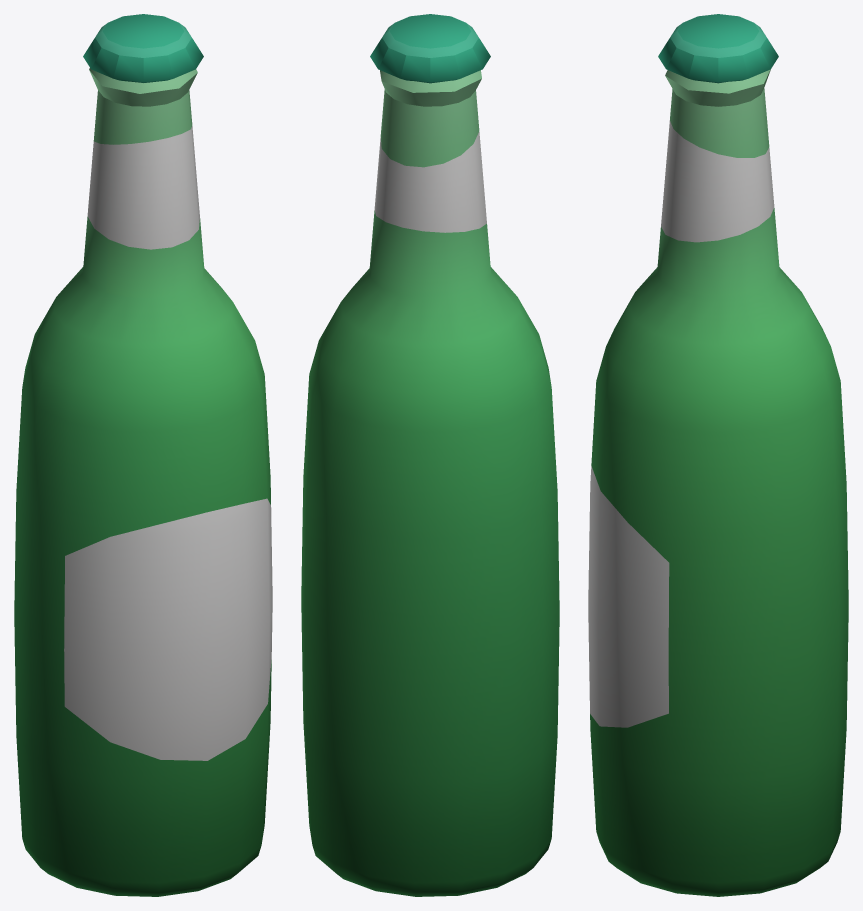
File: bottle_024.fbx
The picture shows the model from 3 angles, left to right: view 1: azimuth 30°, elevation 25°; view 2: azimuth 150°, elevation 25°; view 3: azimuth 270°, elevation 25°; orthographic projection.
Visible parts, largest first — view 1: bottle_024; view 2: bottle_024; view 3: bottle_024.
Part boxes in pixels (x1=…): bottle_024: x1=14, y1=14, x2=272, y2=896; bottle_024: x1=301, y1=14, x2=559, y2=896; bottle_024: x1=588, y1=14, x2=848, y2=896.
Size of the model in its own units: 6.42 by 6.42 by 22.36.
